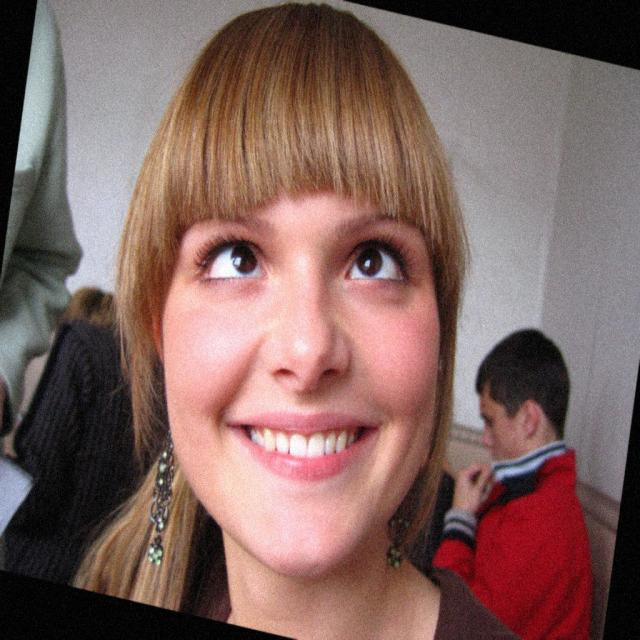Squint: (192, 222, 278, 303), (341, 228, 421, 305)
